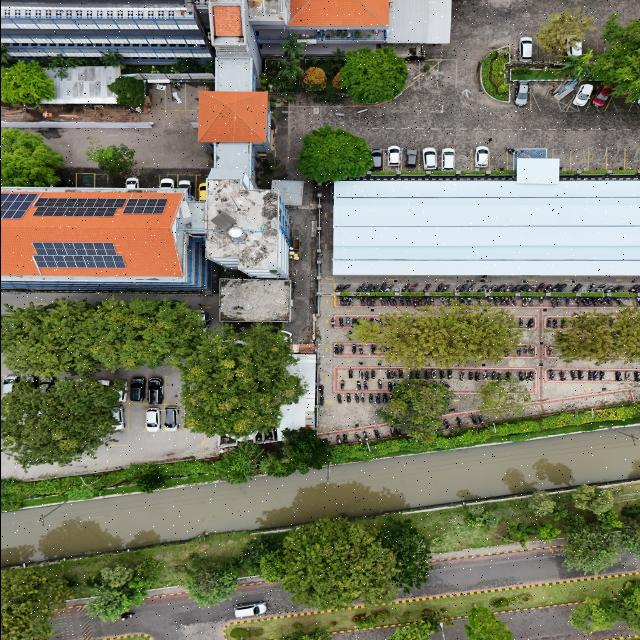Tree: (334, 43, 409, 113), (298, 124, 374, 189), (533, 10, 598, 65), (182, 560, 246, 606), (102, 72, 149, 116), (569, 484, 615, 516), (132, 467, 176, 497), (526, 492, 560, 517), (534, 522, 560, 540)
